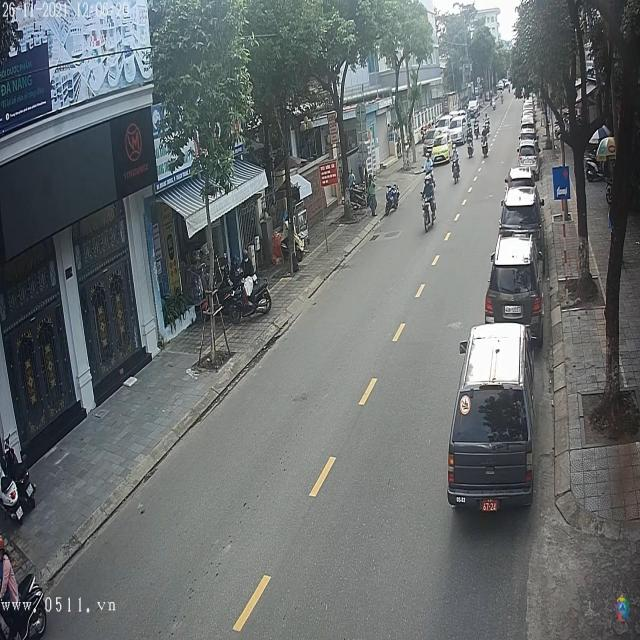car: (449, 326, 534, 508), (484, 238, 544, 332), (500, 188, 544, 236), (506, 166, 535, 190), (518, 142, 538, 168)
motorcycle: (422, 194, 438, 235), (451, 160, 462, 190)
